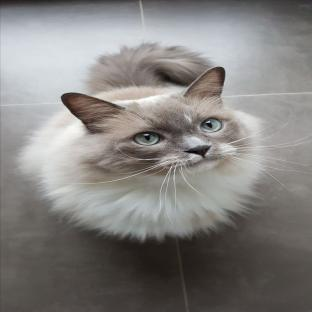Animal: (18, 44, 296, 241)
